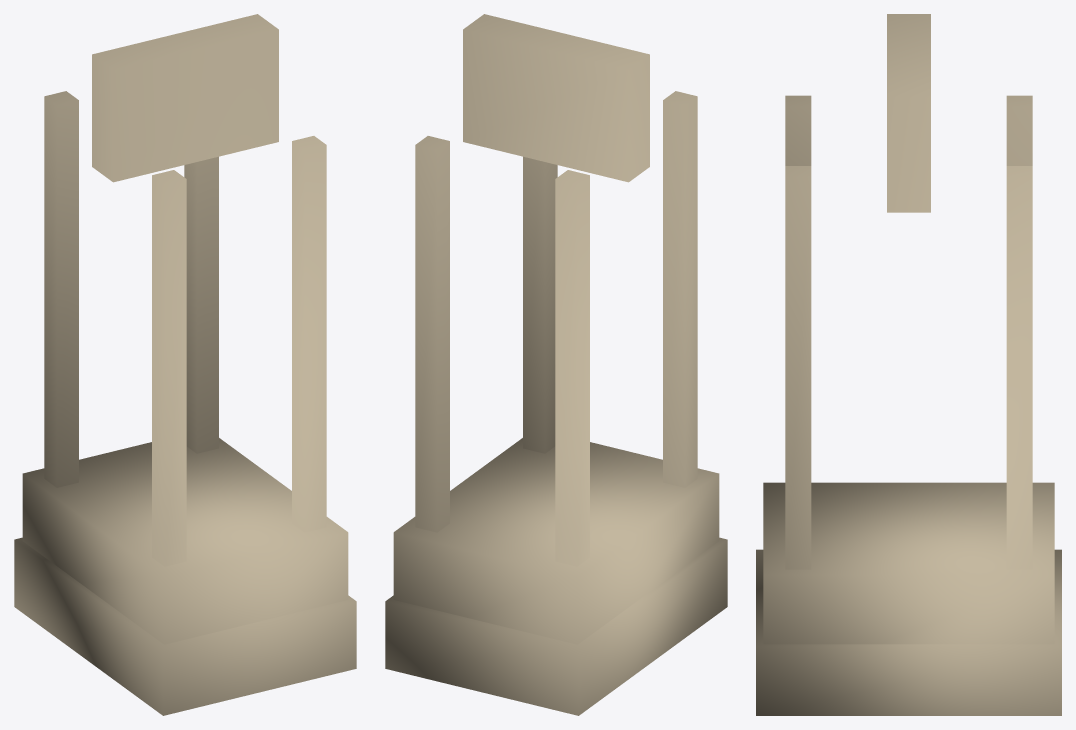
The model's file is oracle_of_apollo.obj.
3 renders of one model, left to right at view 1: azimuth 30°, elevation 25°; view 2: azimuth 150°, elevation 25°; view 3: azimuth 270°, elevation 25°, orthographic. The views are drawn at different scales.
Visible parts, largest first — view 1: building; view 2: building; view 3: building.
Boxes of the visible parts, <box> form: building: <box>14,14,356,715</box>; building: <box>385,14,727,715</box>; building: <box>756,14,1061,715</box>.
Size of the model in its own units: 3.15 by 9.27 by 4.2.
